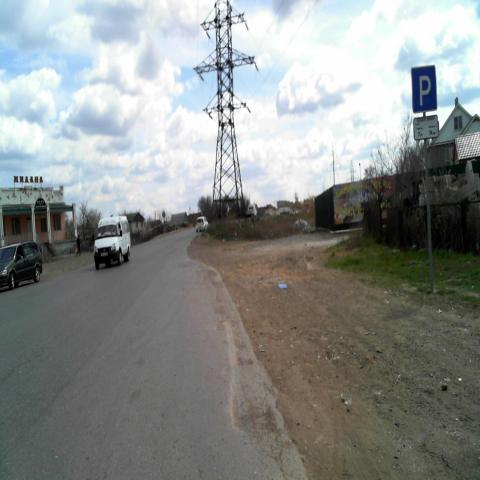6_4: (412, 62, 436, 112)
